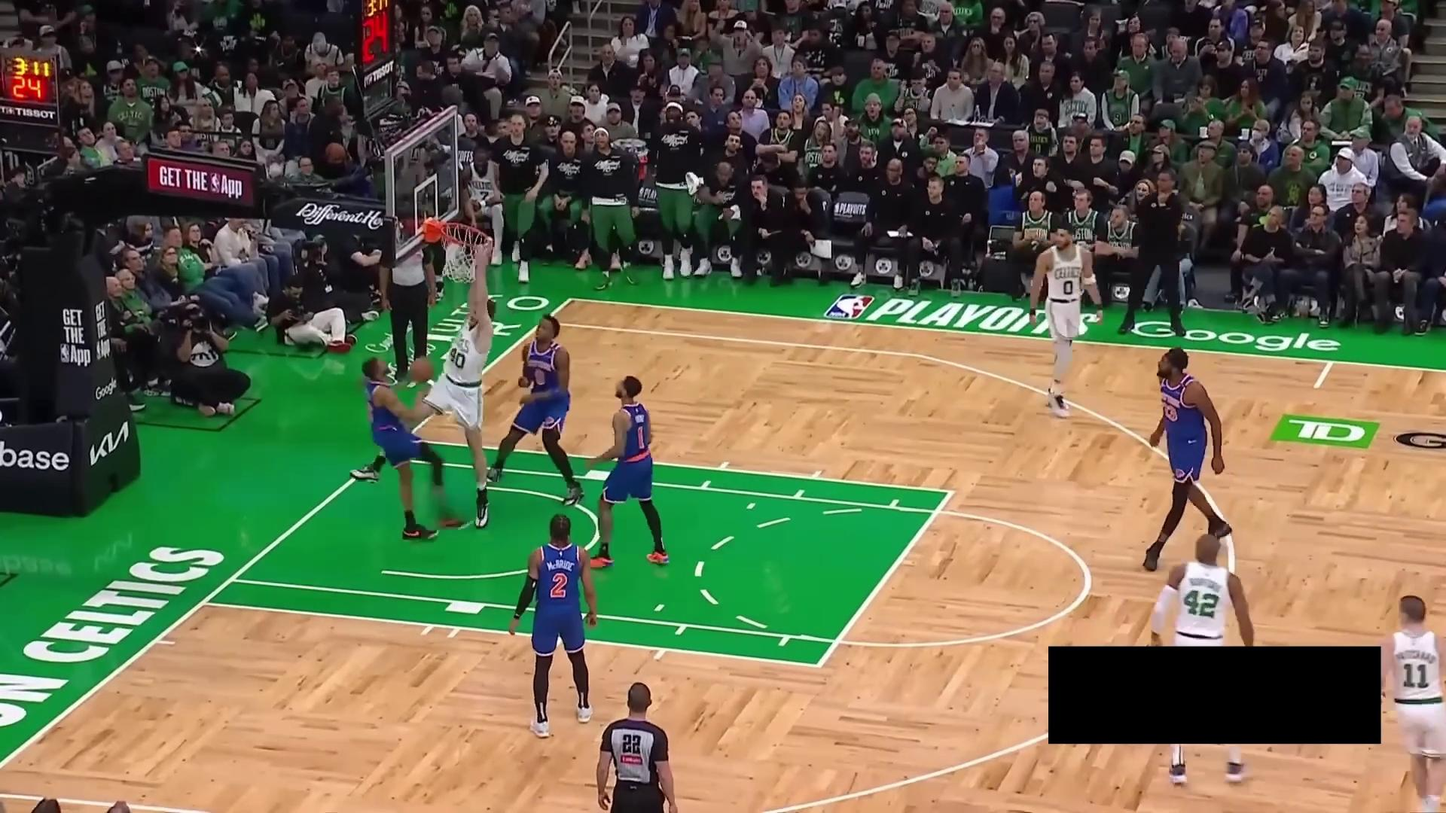ball: (408, 354, 434, 386)
number: (1182, 588, 1221, 621), (1402, 660, 1430, 690), (547, 572, 568, 598), (448, 346, 467, 369), (636, 424, 648, 451), (533, 367, 547, 387), (1063, 279, 1074, 296)
player: (1141, 521, 1260, 785), (474, 311, 590, 506), (354, 354, 466, 554), (510, 509, 605, 738), (1140, 341, 1235, 570), (582, 372, 678, 574), (1030, 222, 1110, 419), (1377, 587, 1446, 813)
player-layup-dunk: (342, 227, 505, 534)
referee: (591, 678, 683, 813), (373, 229, 445, 383)
rim: (437, 220, 493, 256)
